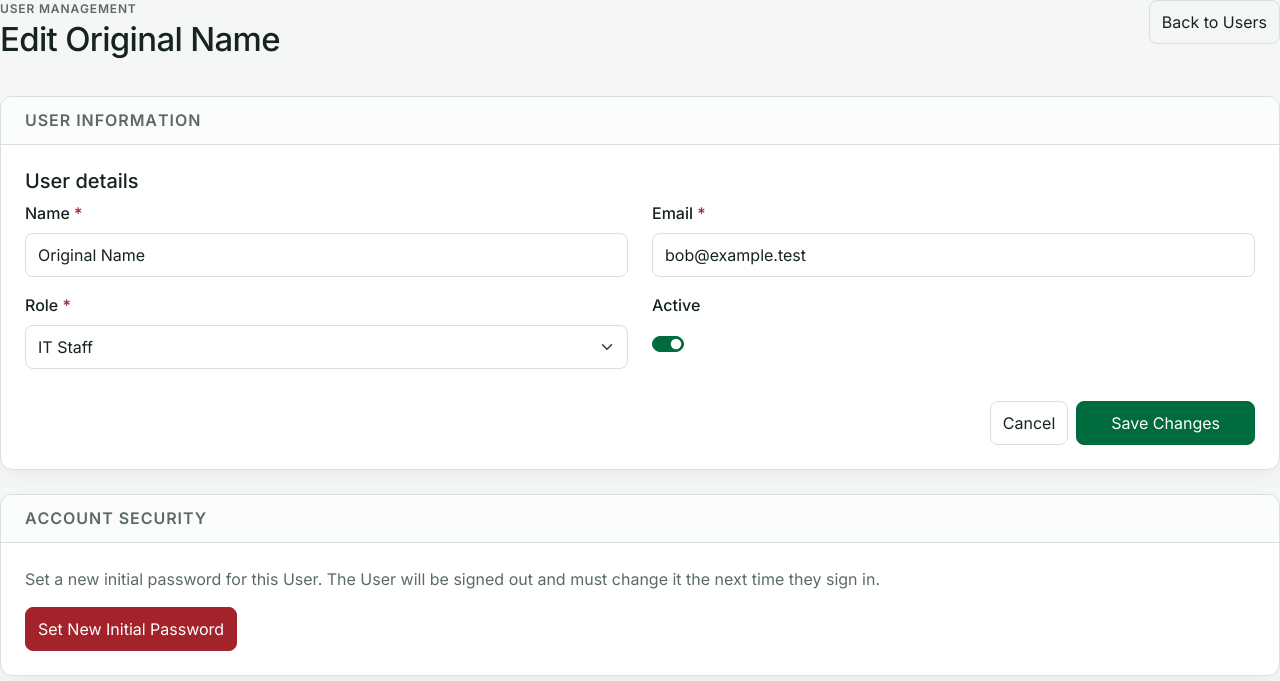
Scenario: UserForm tests (CreateUser and EditUser) @issue-6 › UI-28 Edit User fields, self-safety, and session confirmations › preserves unsaved edits after failed PATCH
Expected: the heading "Edit Original Name" is shown, x1=0 y1=22 x2=280 y2=58
Replace the text in the field labelled "Name *" with "Unsaved Change" at (326, 255), box x1=25 y1=233 x2=628 y2=277
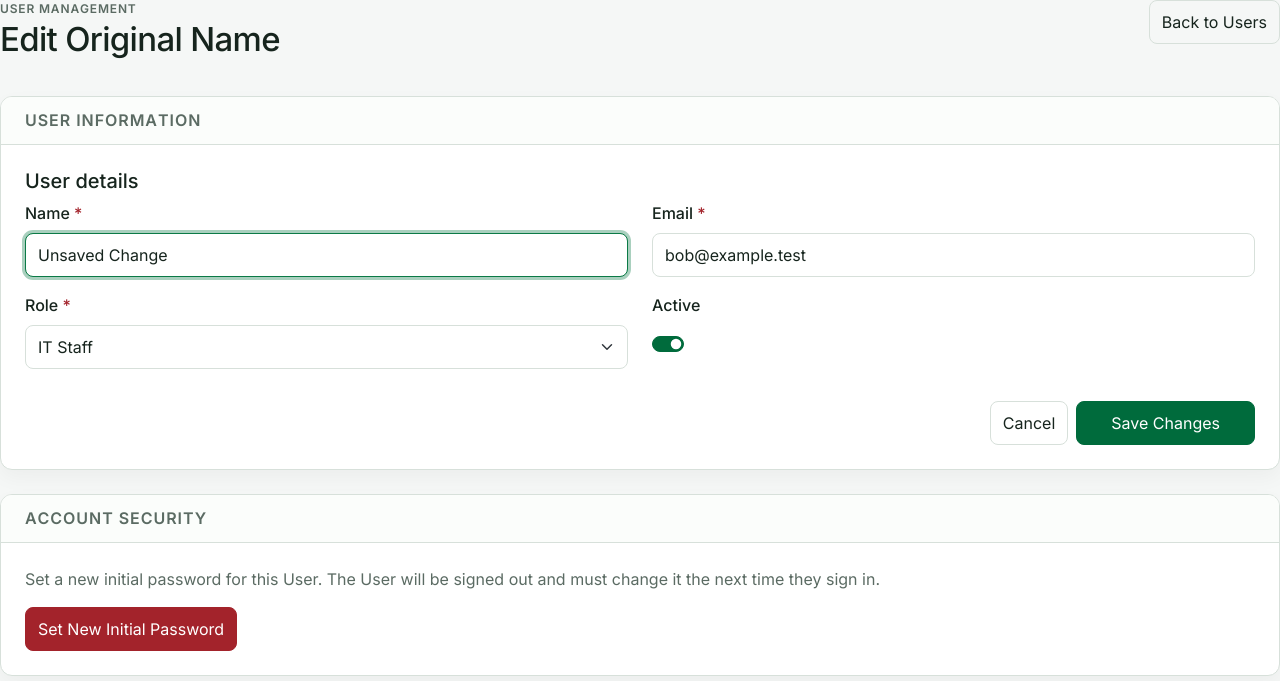
Click the button "Save Changes" at (1166, 423), box x1=1076 y1=401 x2=1255 y2=445
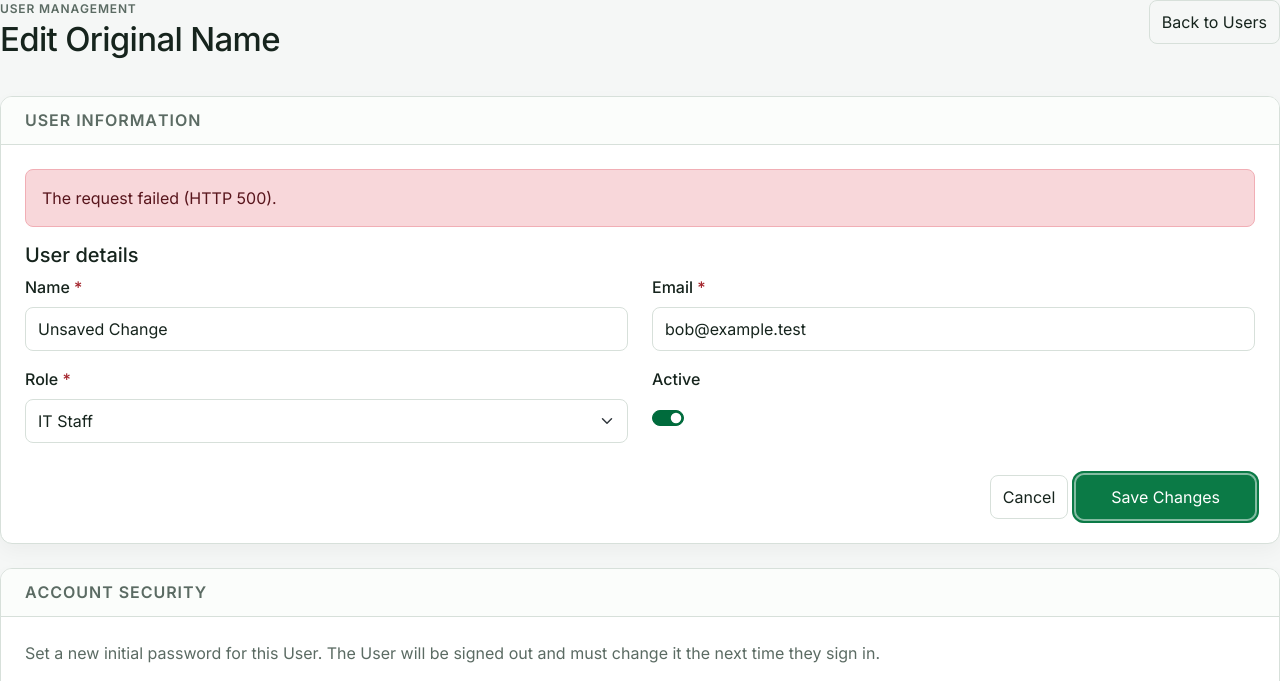
Now the text "The request failed (HTTP 500)." is shown, box x1=25 y1=169 x2=1255 y2=227
